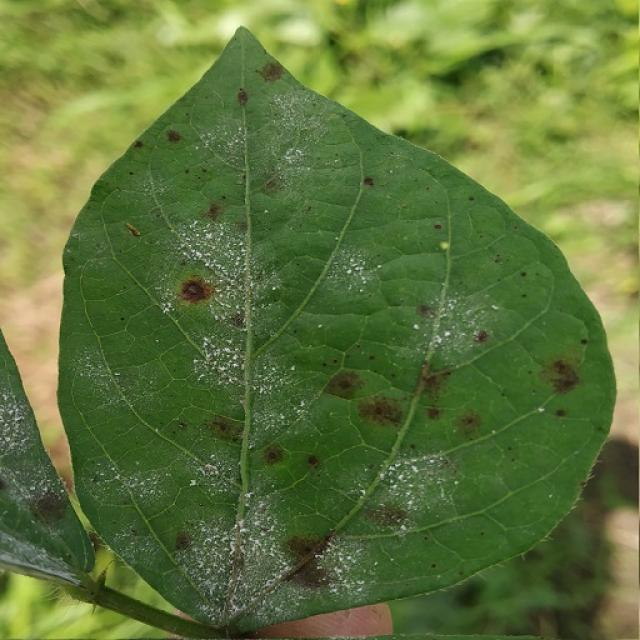Blackgram: (0, 30, 615, 635)
Powdery_Mildew: (106, 214, 462, 617), (155, 182, 355, 428), (312, 247, 494, 399), (249, 508, 384, 611), (183, 496, 288, 612), (178, 271, 268, 403), (168, 222, 259, 330), (1, 374, 65, 527), (181, 527, 277, 620), (245, 86, 331, 181), (402, 286, 480, 359), (223, 328, 294, 408), (96, 452, 182, 507), (71, 348, 131, 422), (368, 452, 442, 510), (321, 526, 386, 592), (196, 111, 254, 173), (250, 374, 306, 437), (1, 382, 36, 448), (324, 248, 374, 291), (199, 596, 238, 630), (183, 457, 227, 486), (225, 524, 250, 572), (200, 334, 234, 369), (283, 146, 301, 163), (161, 302, 173, 314), (237, 524, 248, 535), (334, 566, 344, 576), (244, 490, 254, 499), (194, 250, 204, 259), (205, 231, 214, 240), (410, 465, 420, 473), (222, 346, 232, 354), (232, 351, 239, 362), (399, 523, 407, 531), (189, 479, 198, 486), (359, 489, 367, 496), (279, 413, 286, 420), (444, 330, 451, 337), (491, 304, 499, 310), (413, 323, 419, 330), (346, 269, 353, 275), (538, 407, 545, 413), (454, 479, 459, 485), (291, 365, 296, 371), (373, 560, 378, 566), (272, 286, 277, 291), (491, 429, 496, 434), (377, 264, 382, 269), (264, 209, 269, 214), (155, 338, 160, 343), (318, 324, 323, 328), (549, 493, 553, 498)
